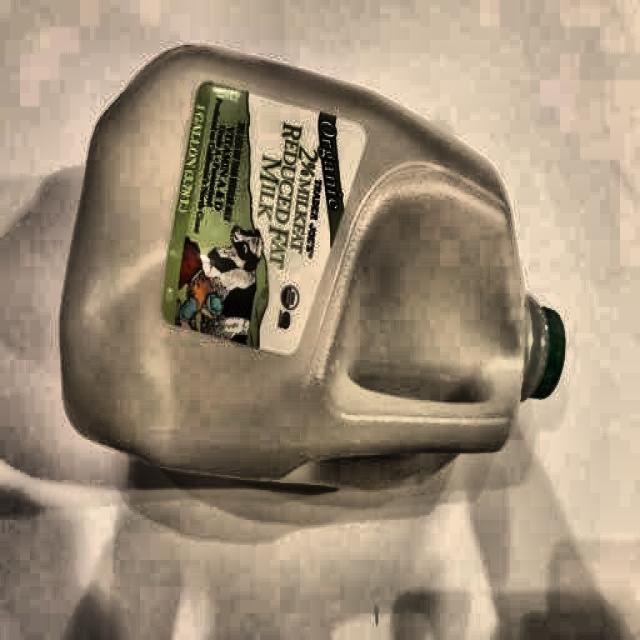plastic: (63, 41, 560, 481)
